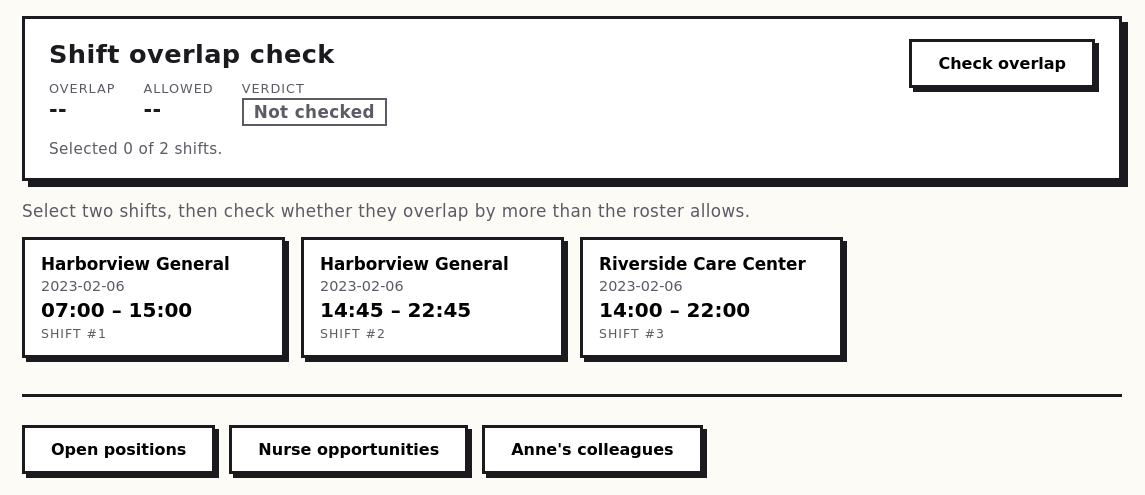
a breached threshold reads as a conflict
Click the text "Shift #1": (74, 334) [41,326,107,341]
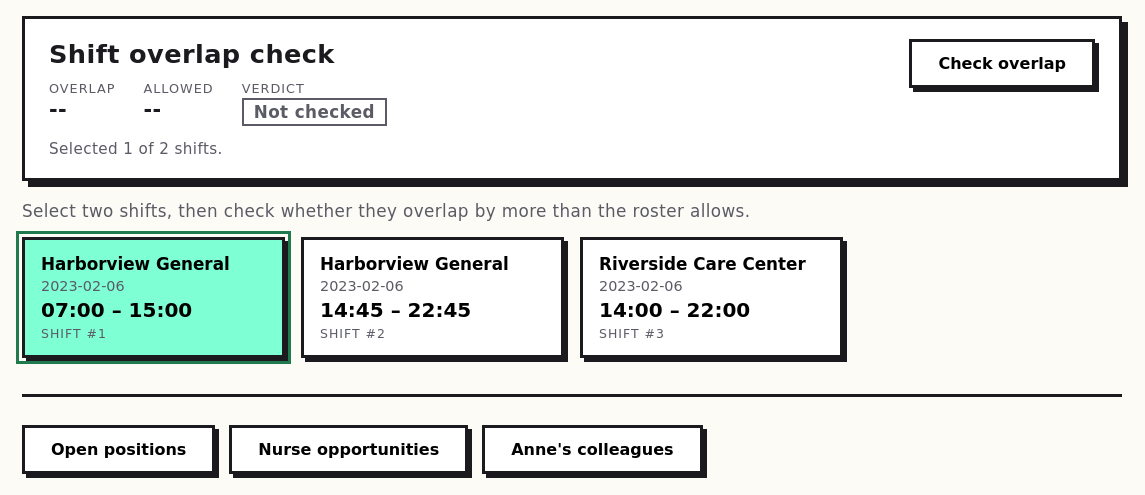
Click the text "Shift #3": (632, 334) [599,326,665,341]
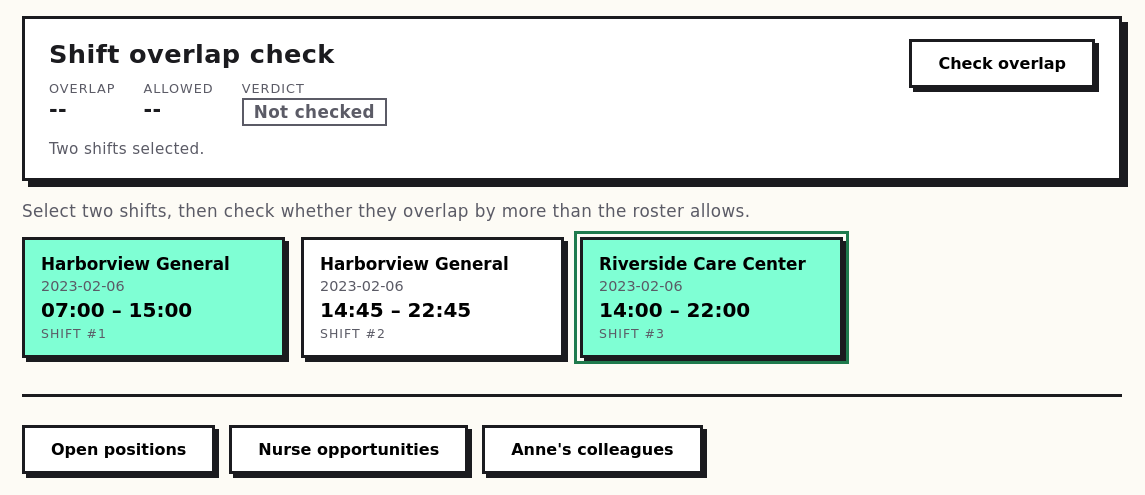
Click the button "Check overlap": (1002, 64) [909,39,1095,88]
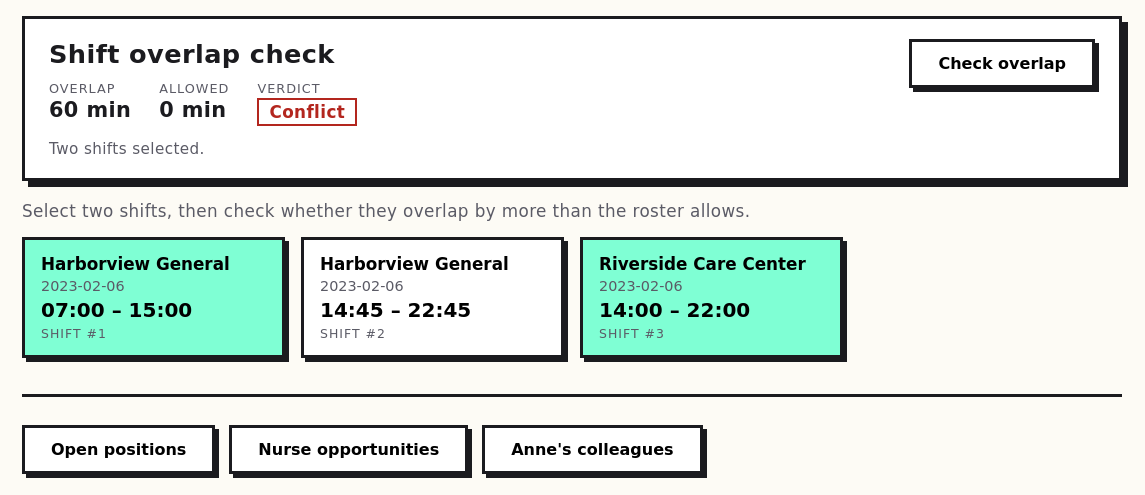
Check: the text "Conflict" is shown, box [257,98,357,126]
